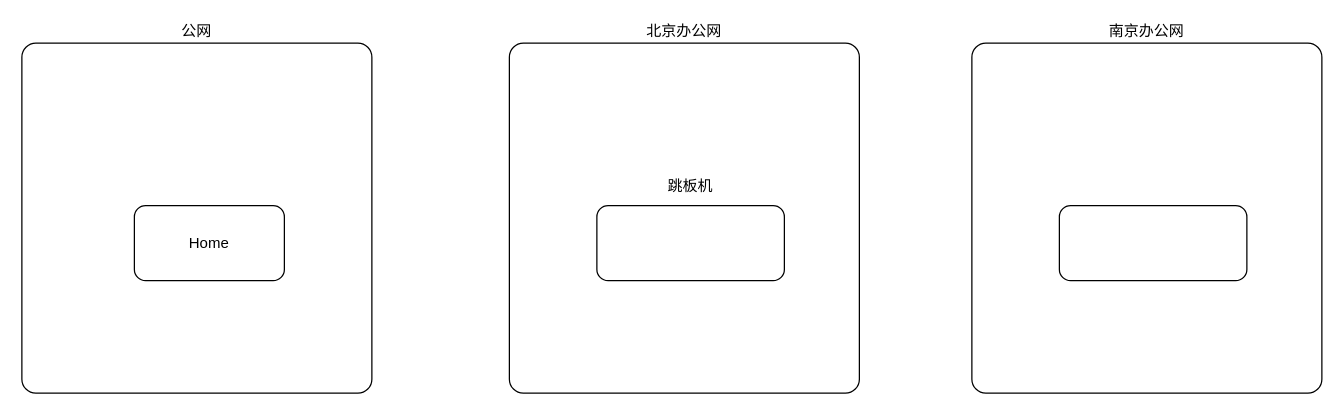
This 1344x415 diagram has some shape labels left out. The shapes that lost their labels are listed below. From the top down, each one's centre as x and y in pixels, then its label:
the point at 690,242: isrc.iscas.ac.cn:5022
the point at 1152,242: SG 2042
